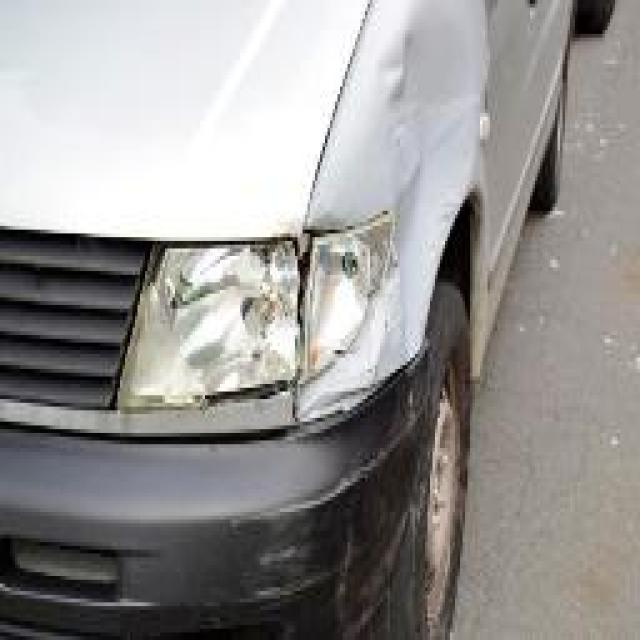Bumper: (222, 422, 438, 640)
Fender: (380, 11, 478, 237)
Light: (140, 248, 390, 407)
